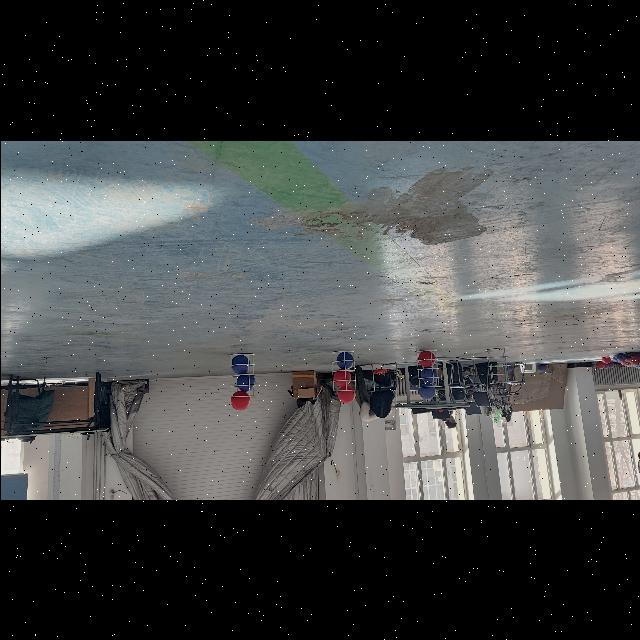B: (334, 352, 354, 370), (230, 356, 250, 374), (417, 382, 435, 400), (236, 374, 254, 391), (419, 367, 437, 383)
R: (230, 391, 250, 411), (336, 385, 354, 403), (417, 350, 435, 368), (333, 369, 351, 386)
S: (226, 351, 256, 402), (328, 348, 359, 394), (482, 343, 512, 387), (414, 346, 441, 392)
